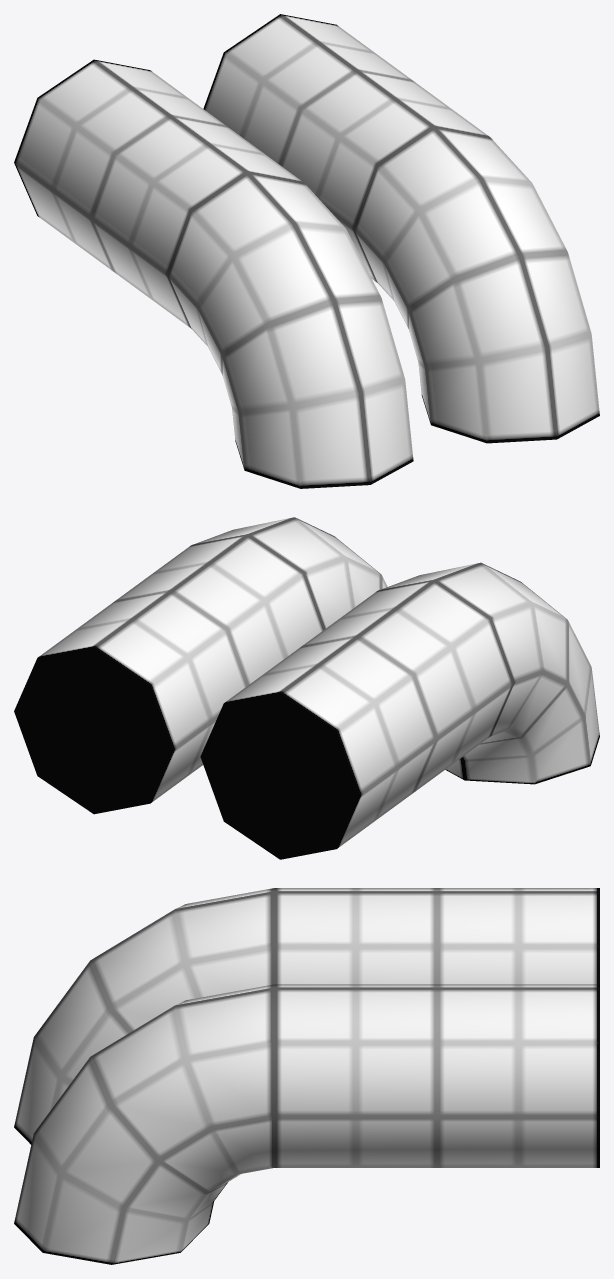
The model's file is pipe-4.fbx.
3 views of the same model, one above another, from view 1: azimuth 30°, elevation 25°; view 2: azimuth 150°, elevation 25°; view 3: azimuth 270°, elevation 25° (orthographic). The views are drawn at different scales.
Parts seen in each view (by area): view 1: Object; view 2: Object, Zminus; view 3: Object.
Part boxes in pixels (box(x1,y1,x2,y2)): Object: box(14, 14, 599, 488); Object: box(38, 517, 599, 848); Zminus: box(14, 647, 359, 859); Object: box(14, 888, 599, 1264).
Bounding box in the file's own units: 65 × 40 × 90.
